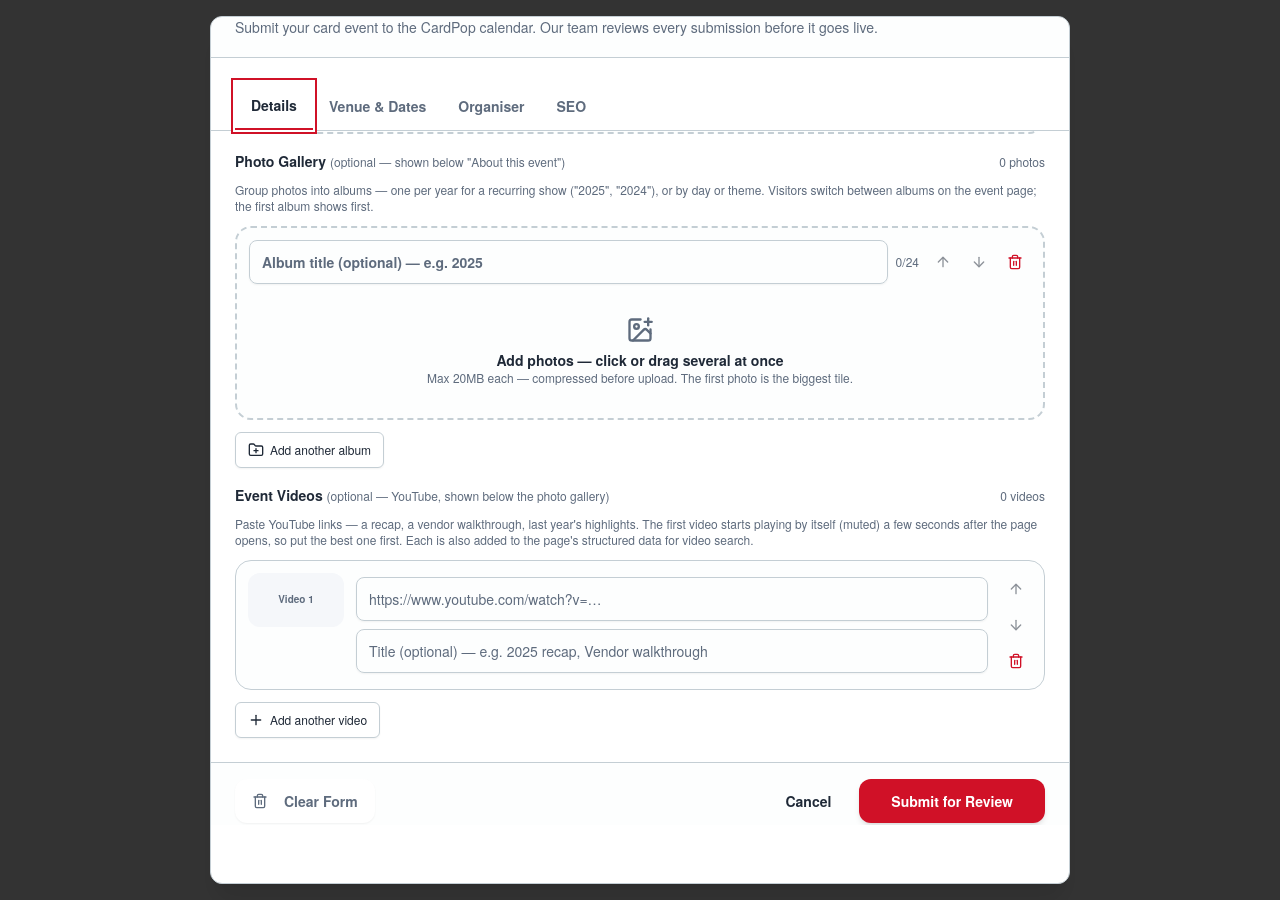
Test: EventFormModal — photo gallery › adds, retitles and removes albums
(page scrolled)
Click the button "Add another album" at (310,450), box [235, 432, 384, 468]
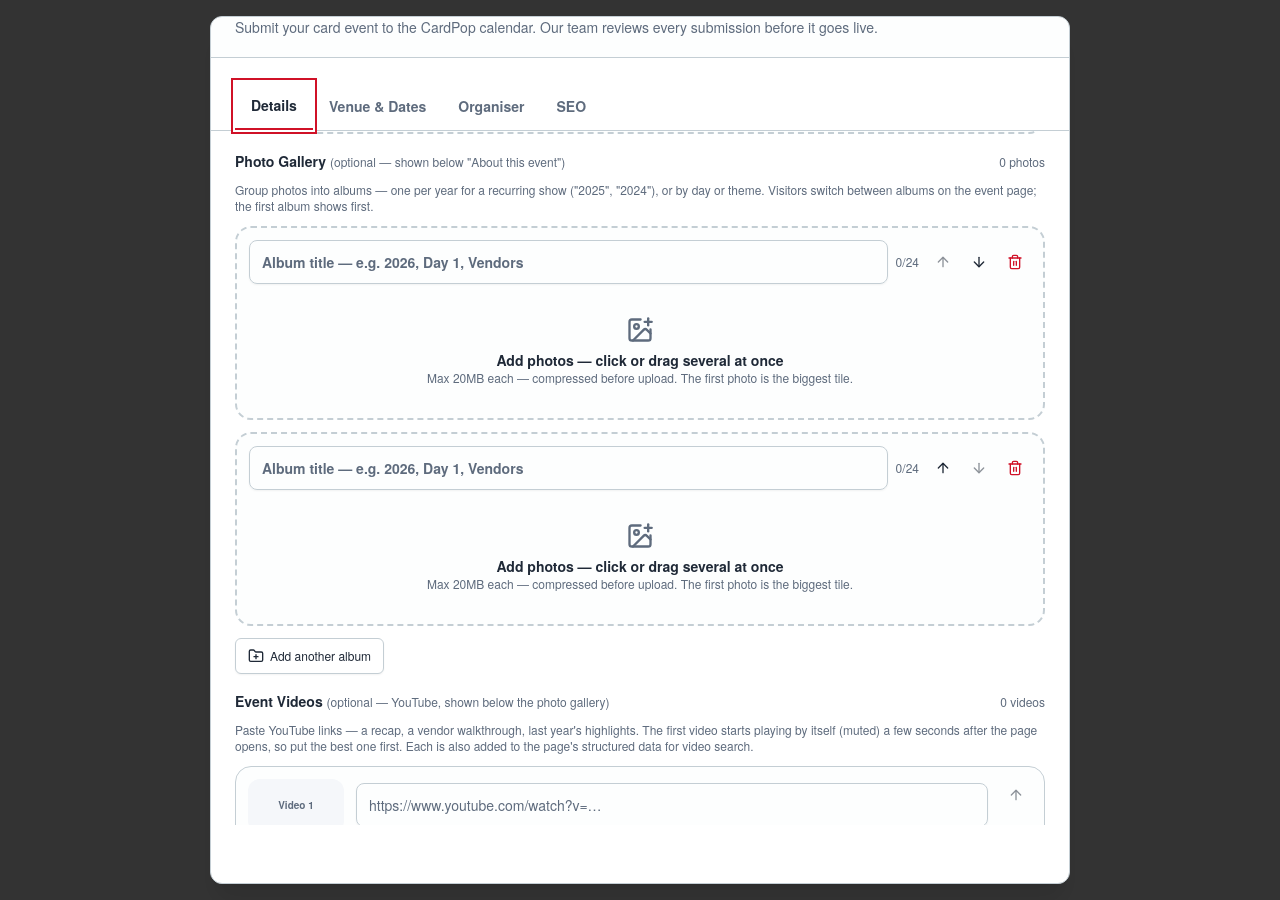
Result: the number of buttons "Add photos" is 2 at [249, 296, 1031, 406]; [249, 502, 1031, 612]
Type "2024" into the field named "Album 2 title" at (568,468), box [249, 446, 888, 490]
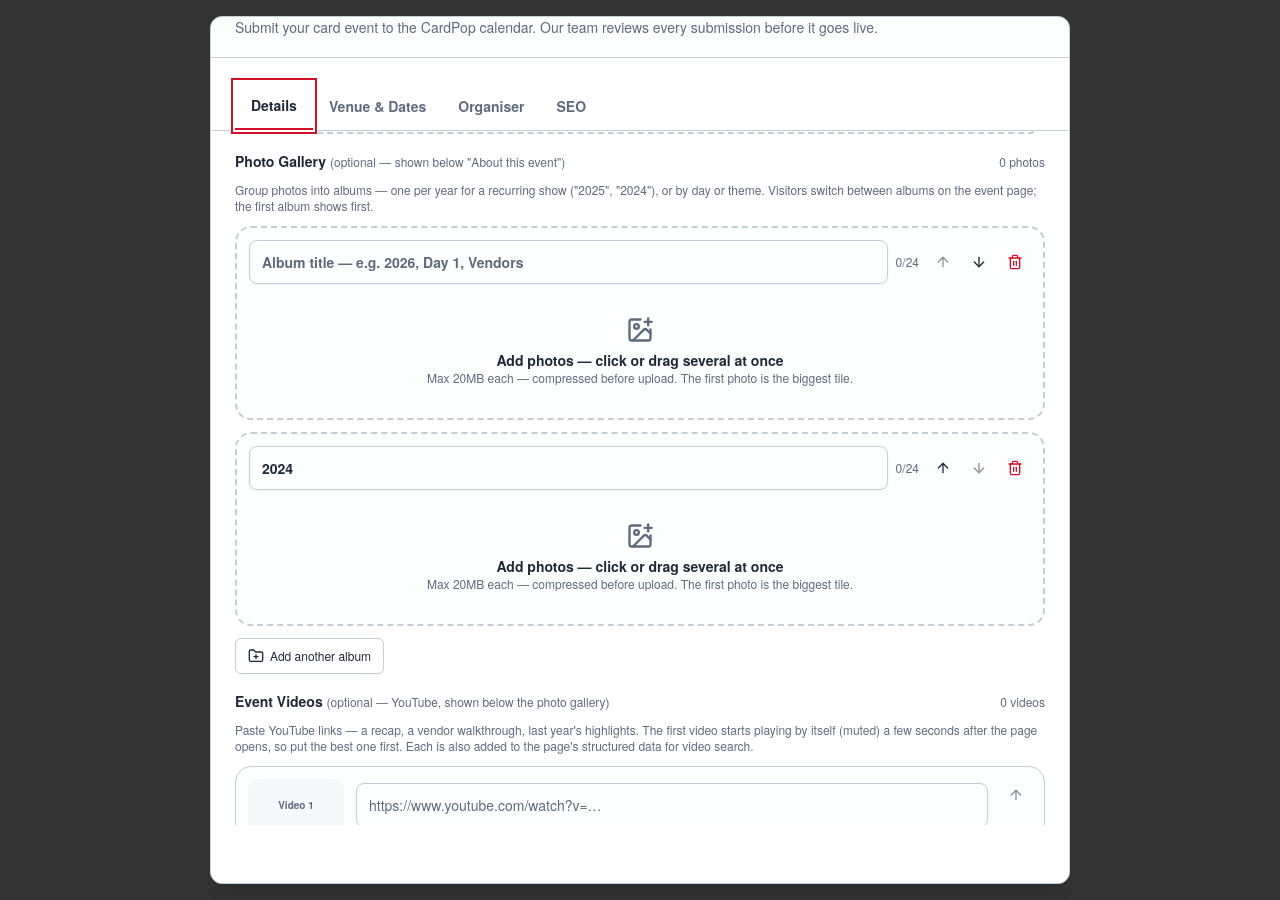
Click the button named "Remove album 1" at (1015,262), box [999, 246, 1031, 278]
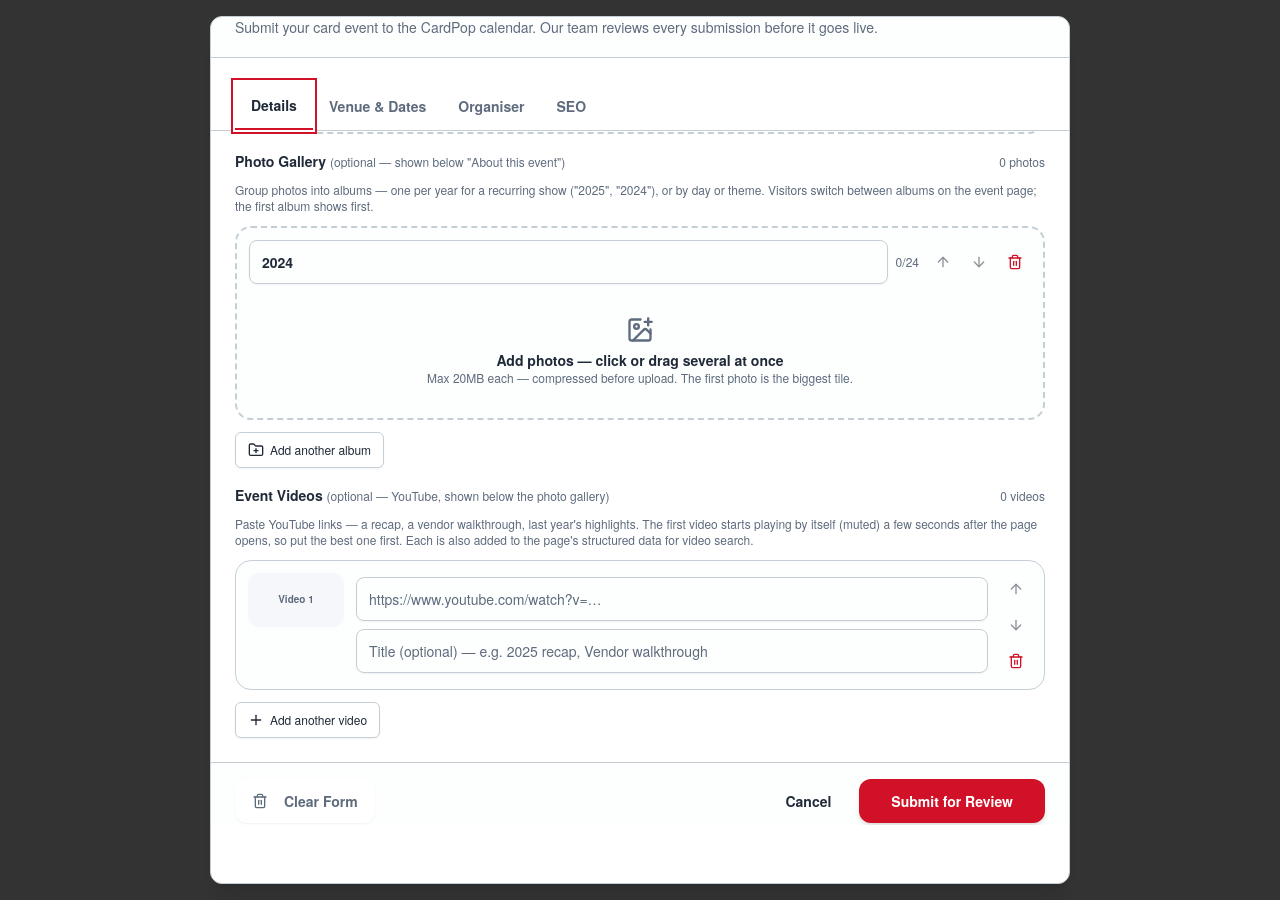
Result: the number of buttons "Add photos" is 1 at [249, 296, 1031, 406]
Result: the field named "Album 1 title" holds "2024" at [249, 240, 888, 284]
Click the button named "Remove album 1" at (1015,262), box [999, 246, 1031, 278]
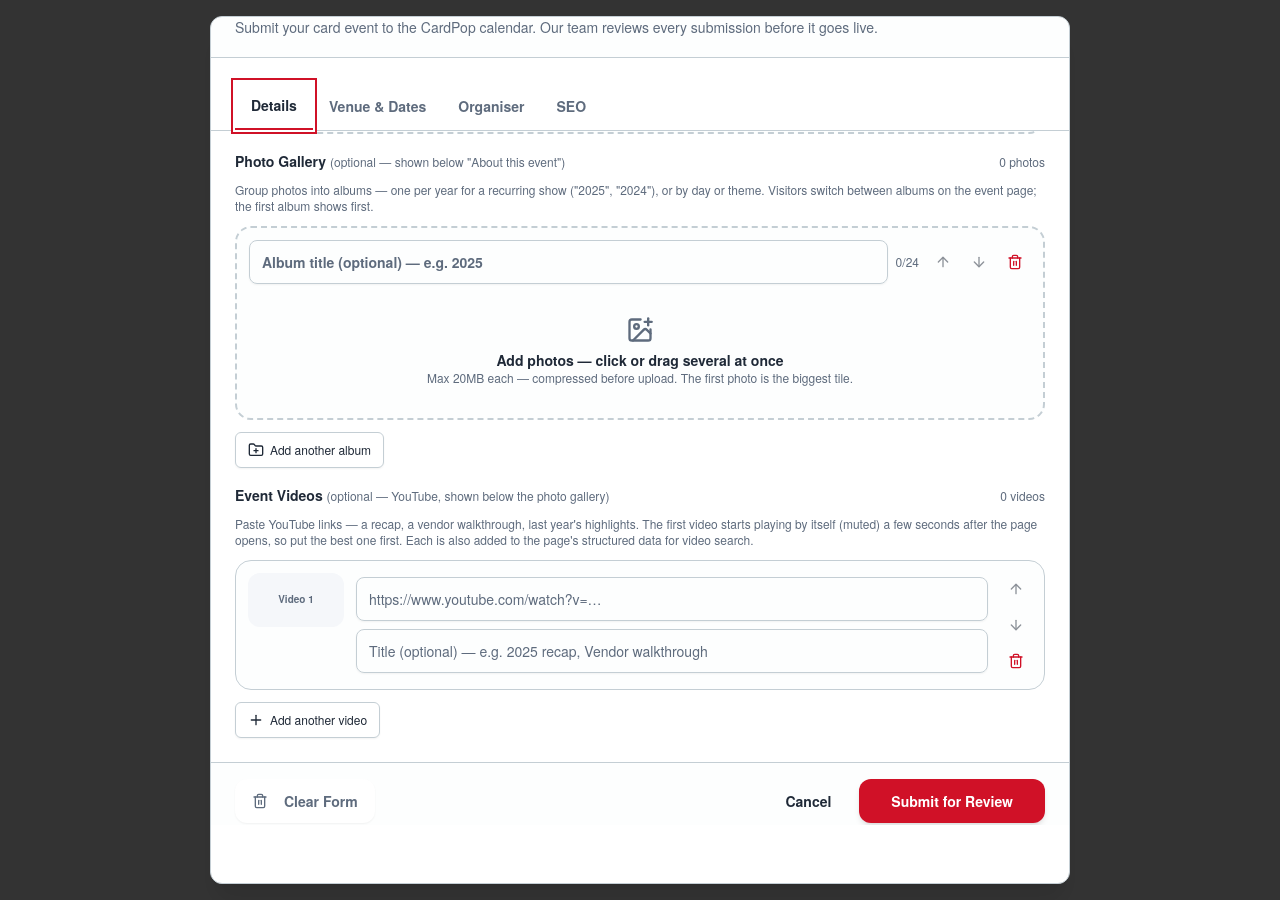
Result: the number of buttons "Add photos" is 1 at [249, 296, 1031, 406]
Result: the field named "Album 1 title" is empty at [249, 240, 888, 284]
